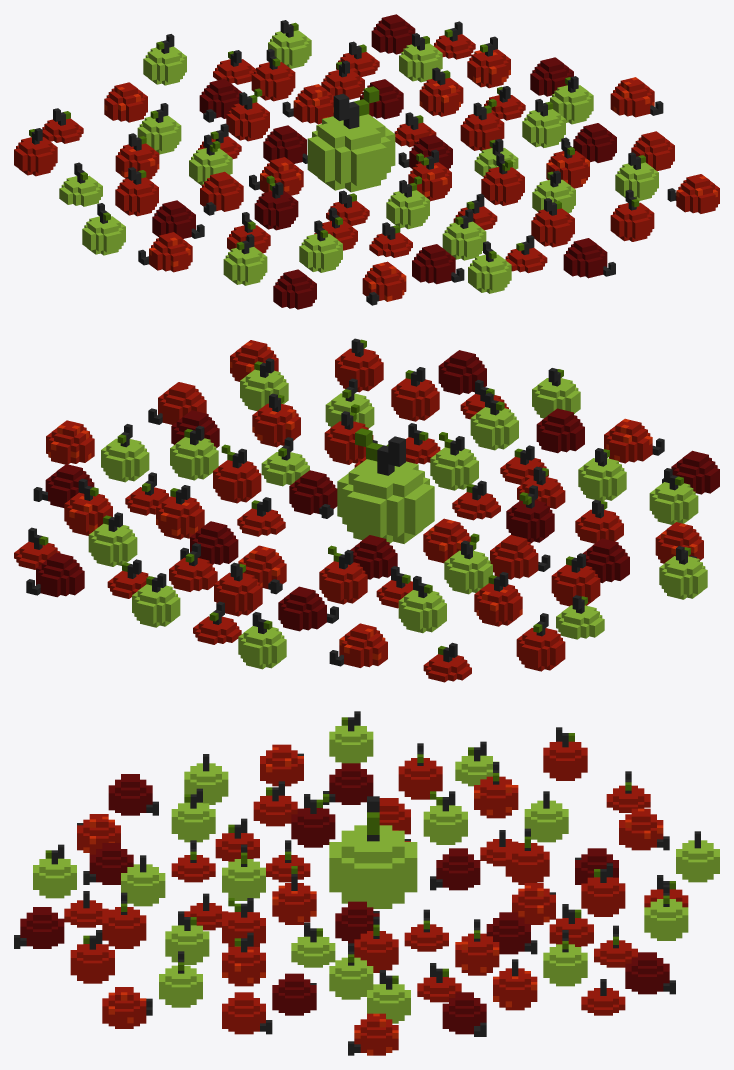
The model's file is apples_inner.obj.
3 renders of one model, top to bottom at view 1: azimuth 30°, elevation 25°; view 2: azimuth 150°, elevation 25°; view 3: azimuth 270°, elevation 25°, orthographic. The views are drawn at different scales.
Visible parts, largest first — view 1: apples; view 2: apples; view 3: apples.
Boxes of the visible parts, x1,y1,x2,y2 form: apples: (14, 14, 719, 309); apples: (14, 338, 719, 682); apples: (14, 711, 719, 1055).
Bounding box in the file's own units: 115 × 16 × 112.
